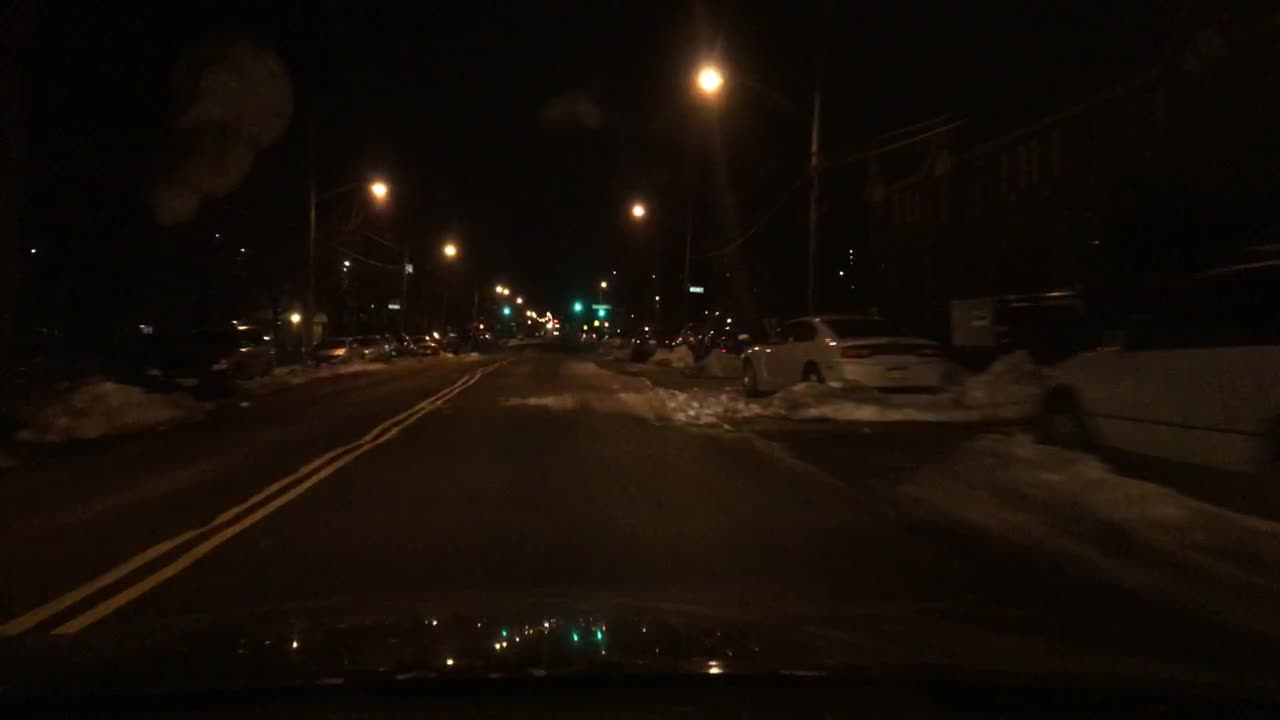car: (1037, 278, 1278, 503), (740, 312, 947, 404), (629, 323, 677, 363)
